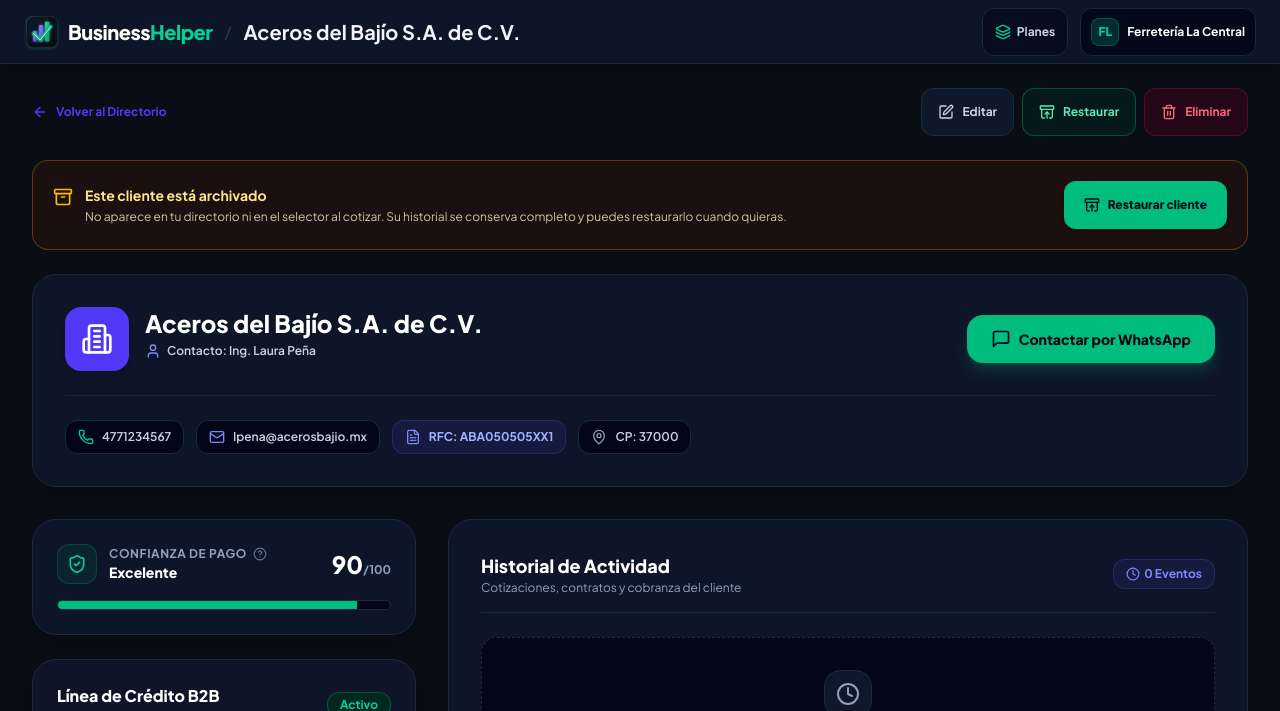
Test case: restoring from the profile (#360) › keeps the banner and reports the failure when the write is refused
Click the button "Restaurar cliente" at (1145, 205), box [1064,181,1227,229]
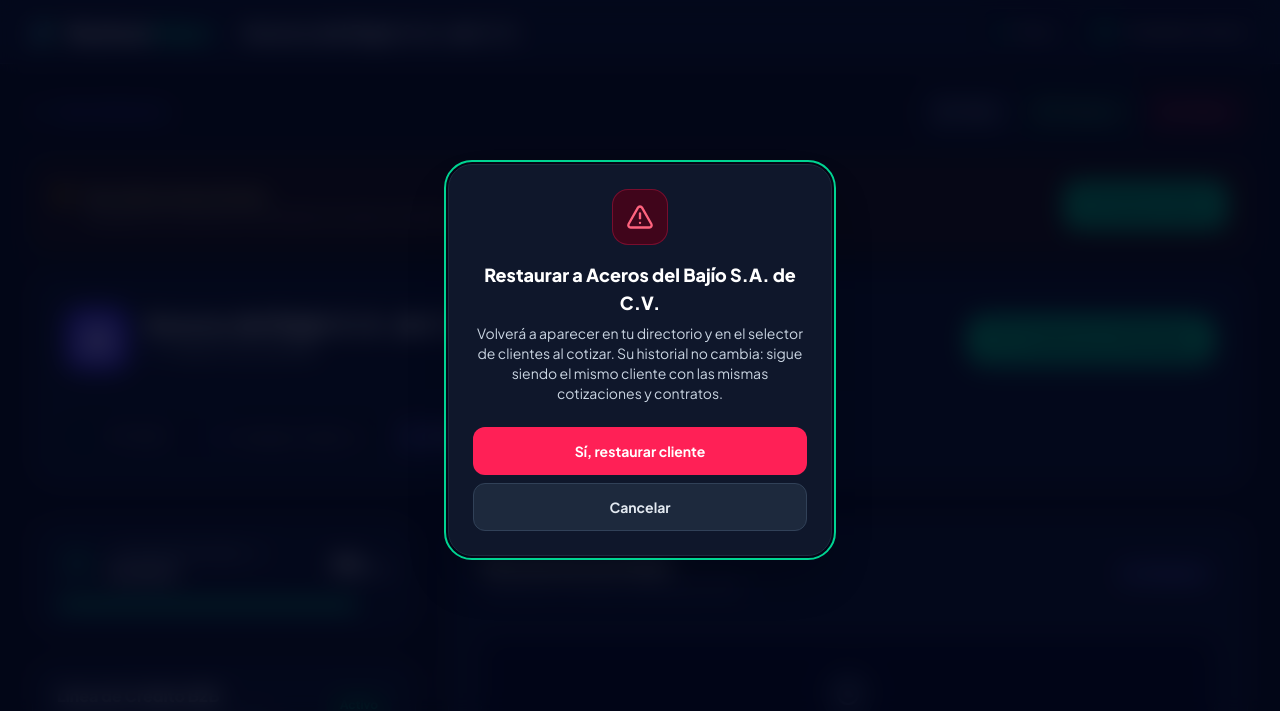
Click the button "Sí, restaurar cliente" at (640, 451), box [473,427,807,475]
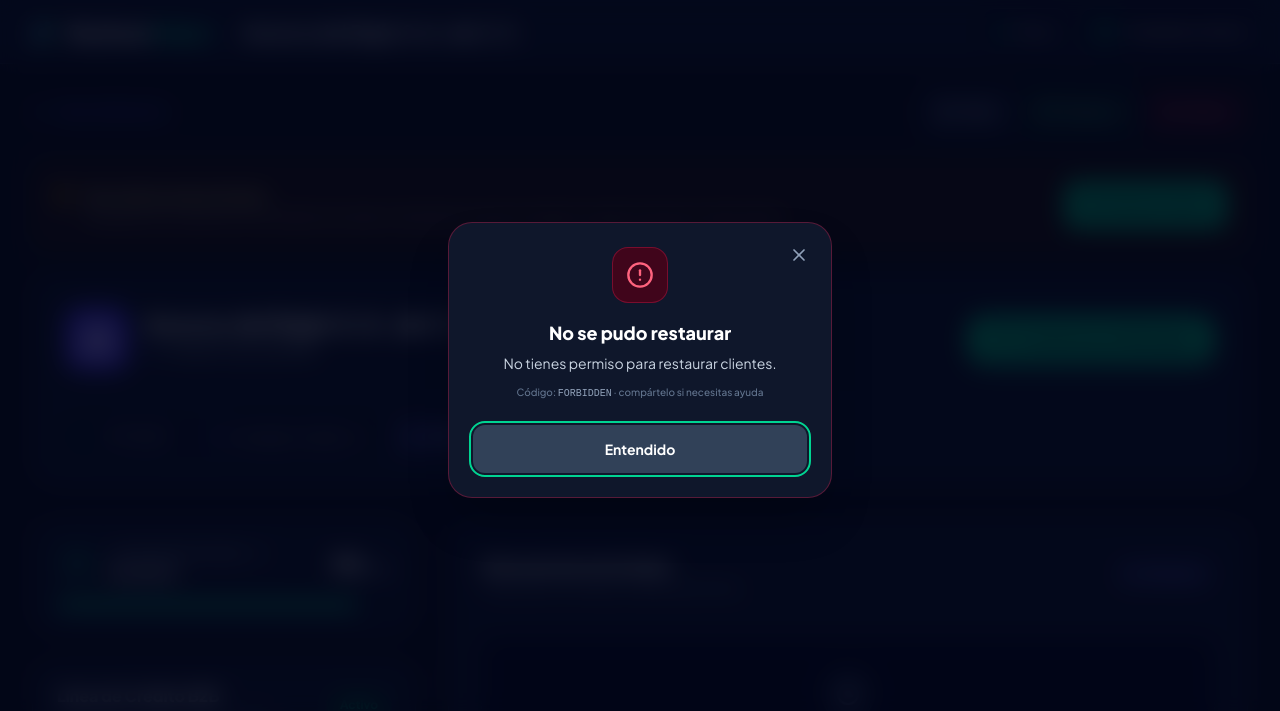
Expected: the heading "No se pudo restaurar" is shown, [549,321,731,344]
